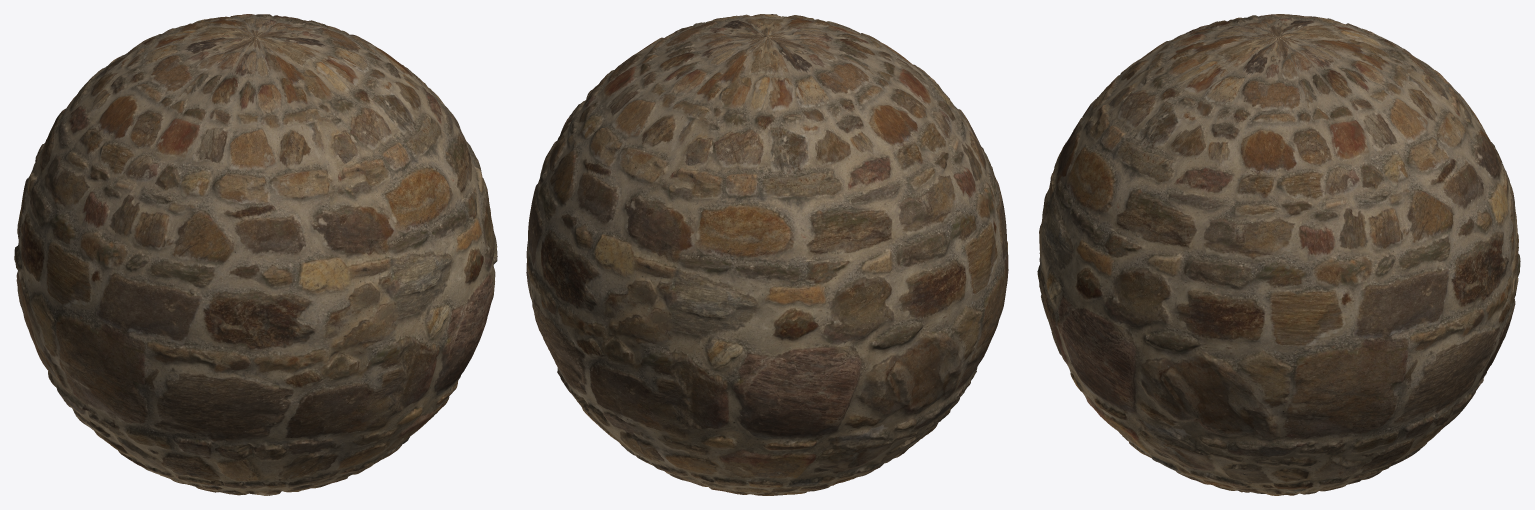
File: rock_wall_04_1k.gltf
3 renders of one model, left to right at view 1: azimuth 30°, elevation 25°; view 2: azimuth 150°, elevation 25°; view 3: azimuth 270°, elevation 25°, orthographic.
Parts seen in each view (by area): view 1: sphere_gltf; view 2: sphere_gltf; view 3: sphere_gltf.
Part boxes in pixels (<box>): sphere_gltf: <box>14,14,497,495</box>; sphere_gltf: <box>526,14,1008,495</box>; sphere_gltf: <box>1037,14,1520,495</box>.
Size of the model in its own units: 2.3 by 2.29 by 2.3.
Materials: 1 (1 with a texture image).
